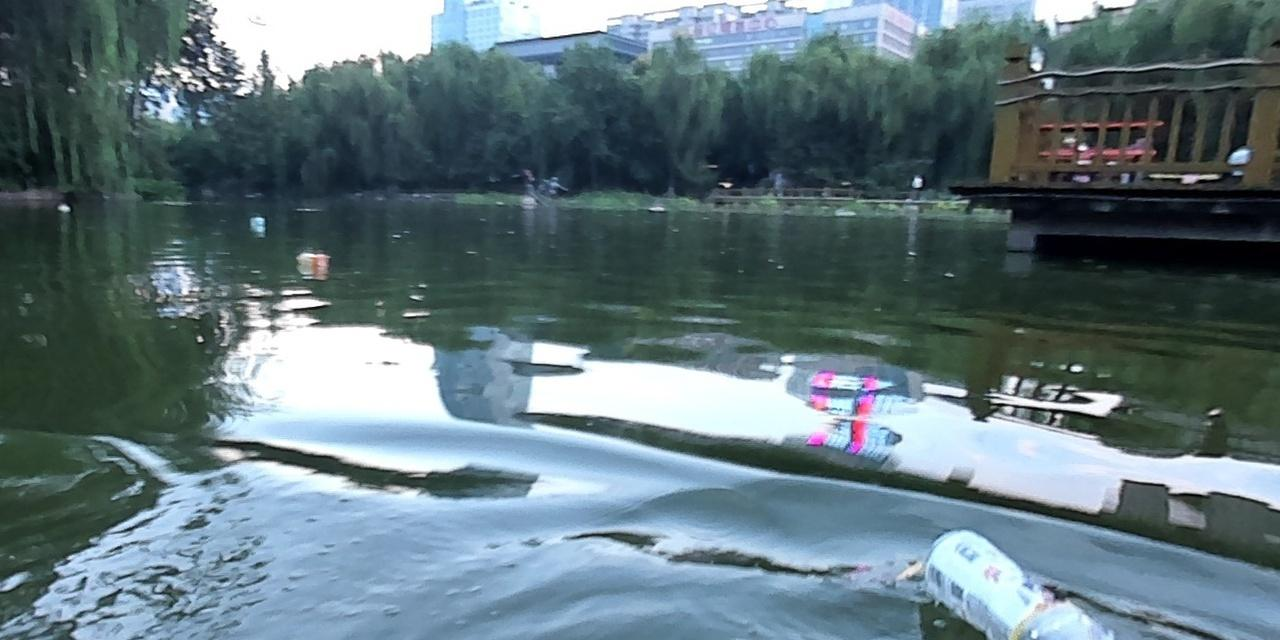bottle: (921, 526, 1104, 639), (294, 251, 328, 265), (249, 215, 264, 230)
